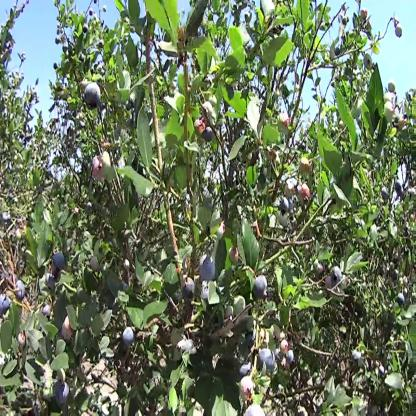intermediate: (241, 377, 255, 406), (64, 315, 74, 339), (299, 185, 309, 207), (228, 245, 239, 265), (195, 119, 205, 138), (215, 222, 225, 239), (300, 159, 310, 175), (93, 158, 100, 177), (282, 339, 289, 353), (362, 11, 369, 19)
mature: (85, 81, 102, 110), (54, 383, 70, 409), (259, 347, 275, 372), (201, 255, 213, 280), (255, 278, 267, 298), (54, 251, 65, 270), (185, 279, 196, 297), (332, 266, 342, 284), (1, 295, 10, 315), (15, 283, 27, 298), (124, 327, 134, 345), (42, 304, 53, 320), (281, 197, 289, 216), (396, 181, 404, 197), (381, 185, 388, 200), (241, 361, 249, 373), (398, 293, 405, 306), (206, 128, 213, 140), (287, 352, 294, 363)
young: (101, 154, 114, 176), (280, 113, 291, 132), (384, 103, 394, 123), (90, 254, 99, 273), (56, 369, 67, 383), (364, 54, 373, 71), (394, 23, 403, 38), (285, 183, 294, 198), (315, 262, 323, 277), (204, 103, 212, 117), (19, 333, 26, 348), (389, 80, 396, 94), (210, 92, 216, 108), (398, 116, 405, 129), (17, 228, 23, 239), (402, 274, 407, 286)
